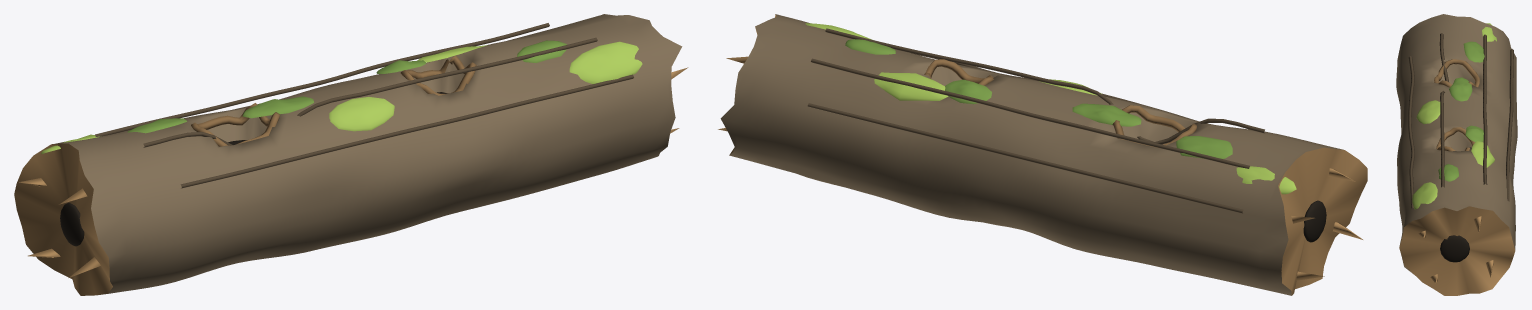
The model's file is detail_rotten_log.glb.
3 views of the same model, side by side, from view 1: azimuth 30°, elevation 25°; view 2: azimuth 150°, elevation 25°; view 3: azimuth 270°, elevation 25° (orthographic). The views are drawn at different scales.
Visible parts, largest first — view 1: bark, wood, plaster, object 7, object 9, object 4; view 2: bark, wood, plaster, object 7, object 4, object 9; view 3: bark, wood, plaster, object 5, object 7, object 9.
Part boxes in pixels (left/top/right/bottom): bark: left=52, top=14, right=682, bottom=294; wood: left=14, top=67, right=688, bottom=295; plaster: left=41, top=40, right=642, bottom=154; object 7: left=191, top=103, right=280, bottom=146; object 9: left=400, top=55, right=476, bottom=95; object 4: left=60, top=203, right=84, bottom=246; bark: left=720, top=14, right=1343, bottom=295; wood: left=718, top=14, right=1367, bottom=295; plaster: left=805, top=23, right=1296, bottom=194; object 7: left=1112, top=105, right=1196, bottom=148; object 4: left=1303, top=200, right=1326, bottom=242; object 9: left=924, top=59, right=993, bottom=85; bark: left=1396, top=14, right=1517, bottom=274; wood: left=1399, top=206, right=1515, bottom=295; plaster: left=1412, top=23, right=1496, bottom=209; object 5: left=1440, top=235, right=1469, bottom=262; object 7: left=1434, top=59, right=1479, bottom=87; object 9: left=1436, top=127, right=1474, bottom=151.
Bounding box in the file's own units: 2.8 × 0.6 × 0.7.
